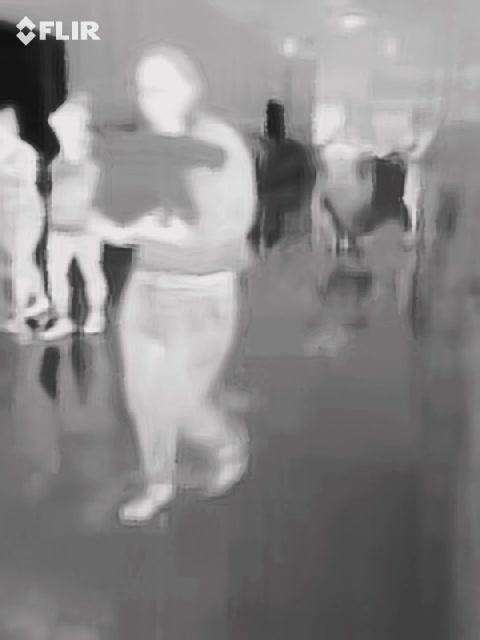head: (132, 44, 203, 133)
